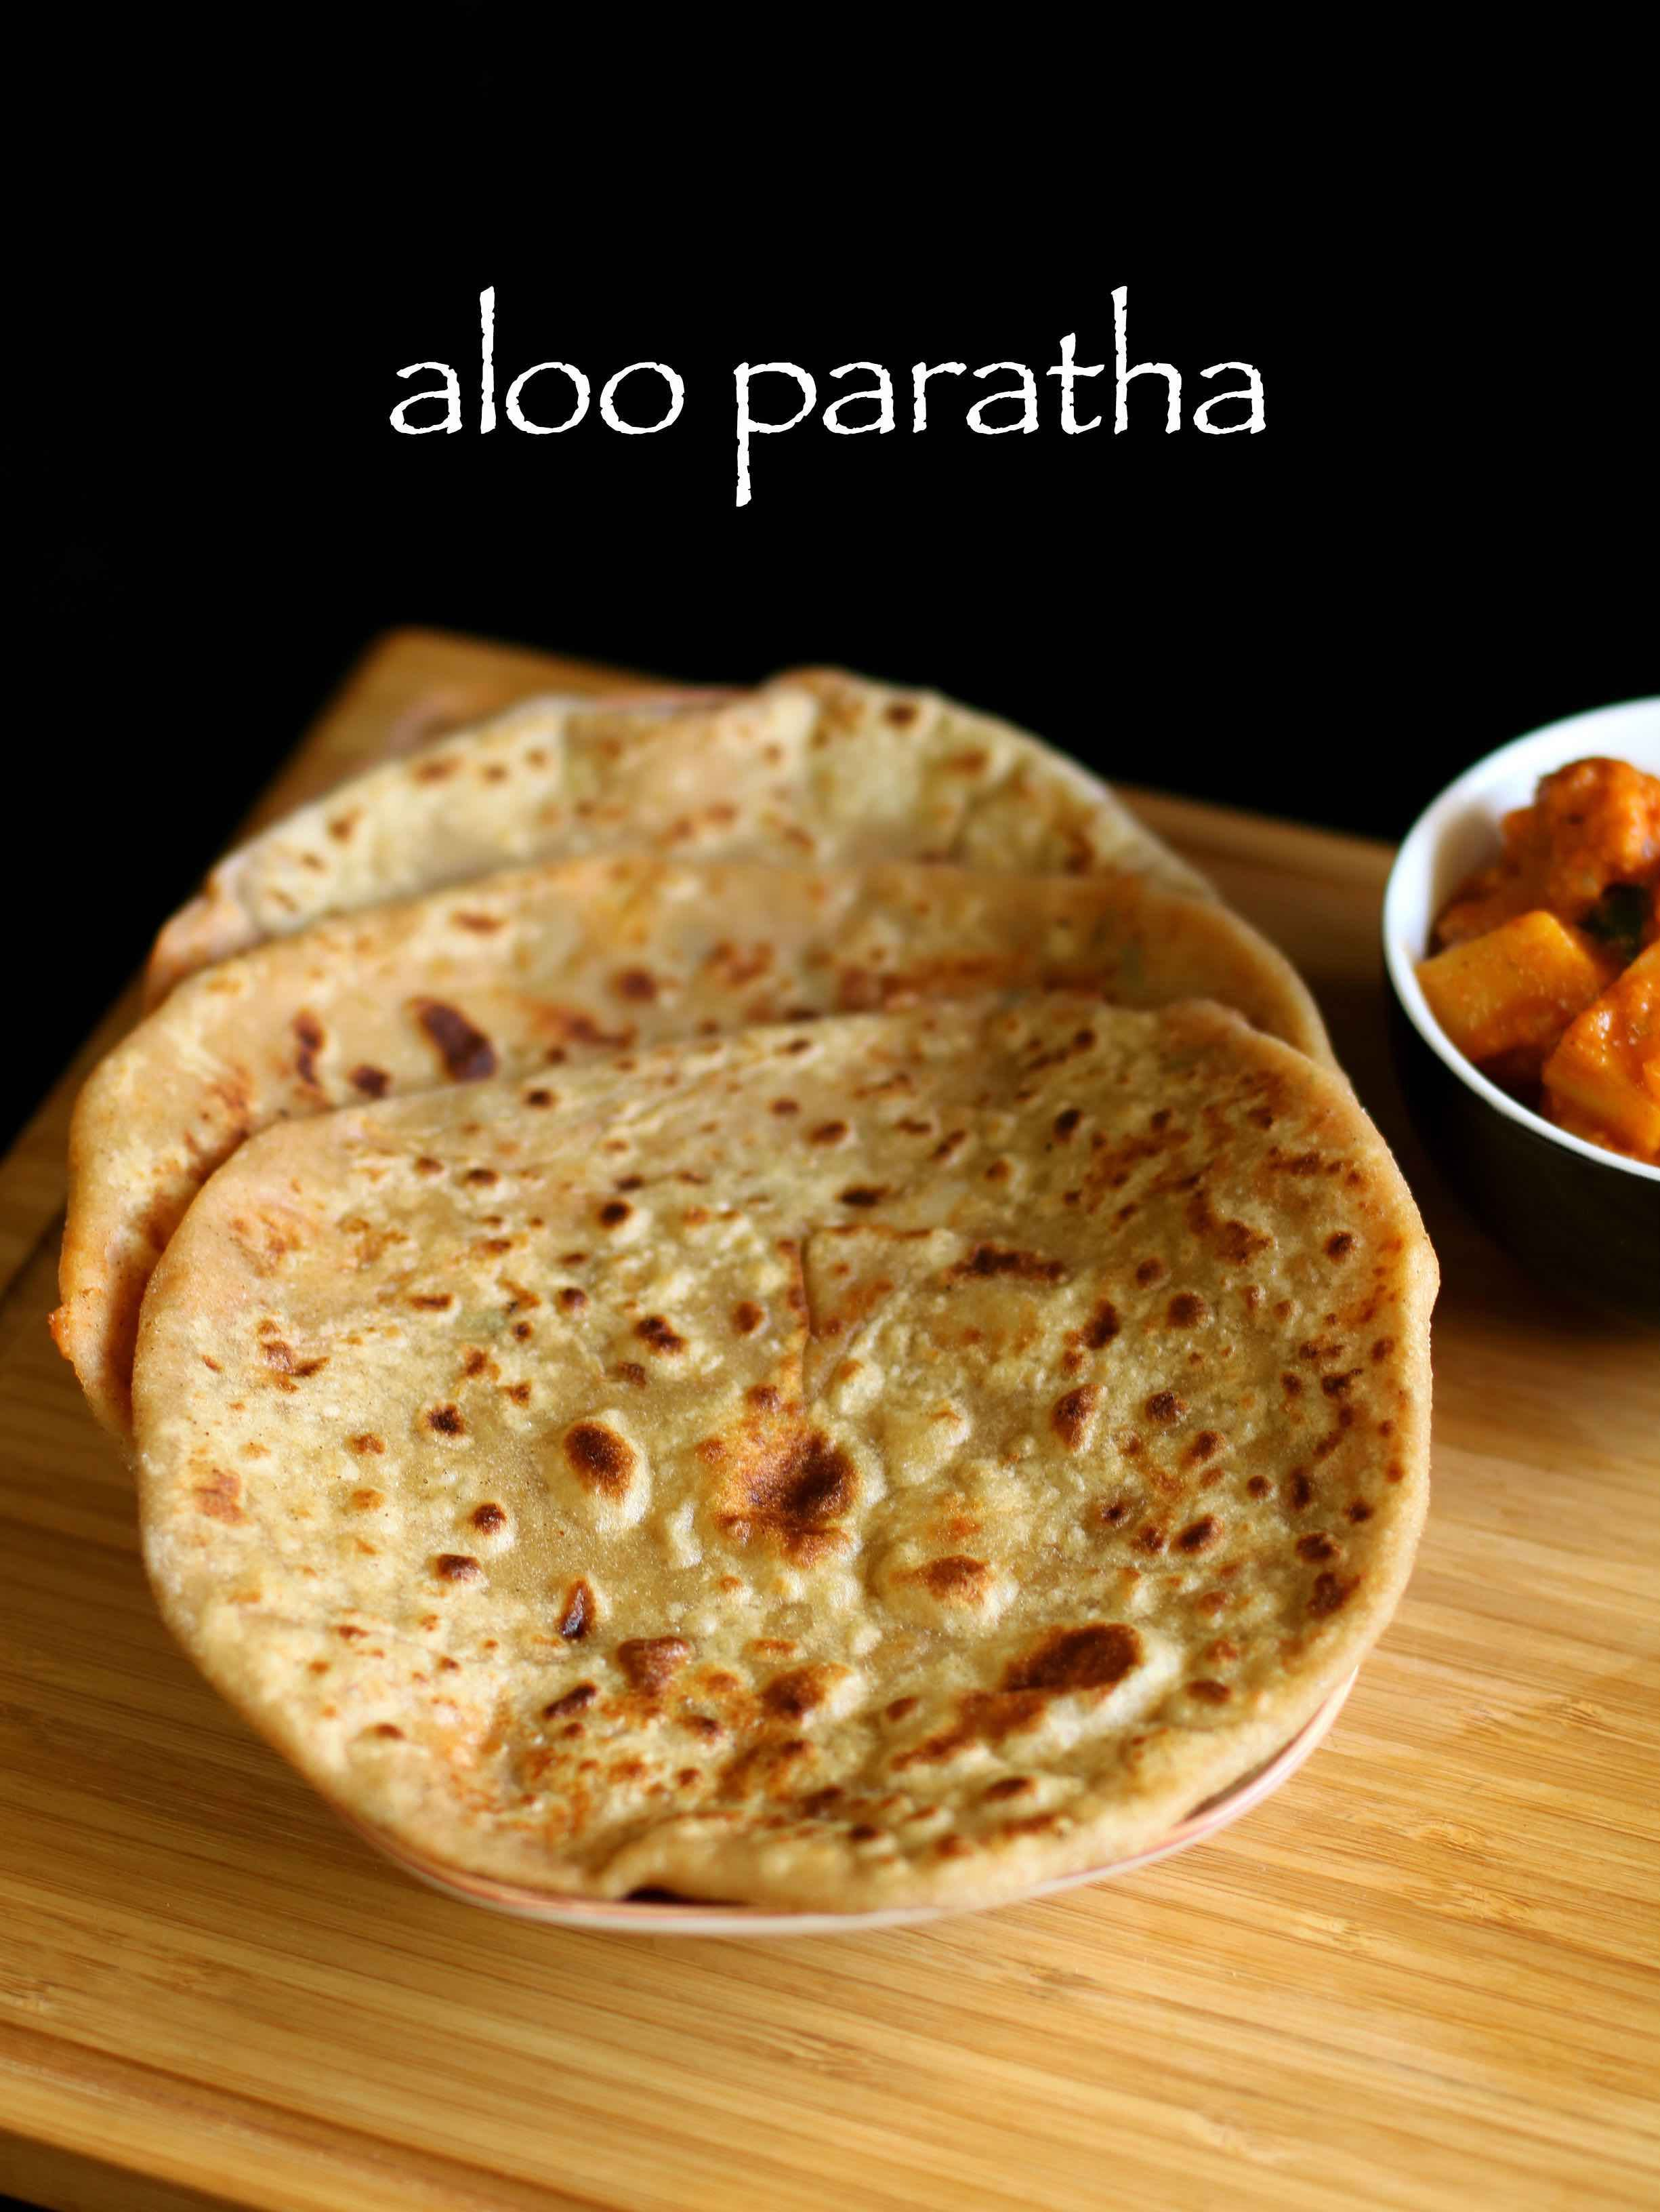aloo_paratha: (77, 637, 1425, 1921)
